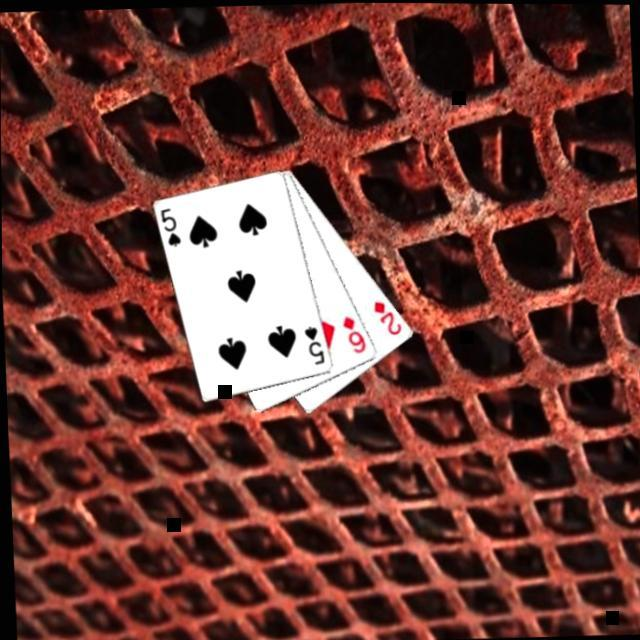2D: (371, 297, 405, 338)
5S: (158, 205, 185, 250), (302, 323, 328, 369)
6D: (340, 312, 369, 356)
